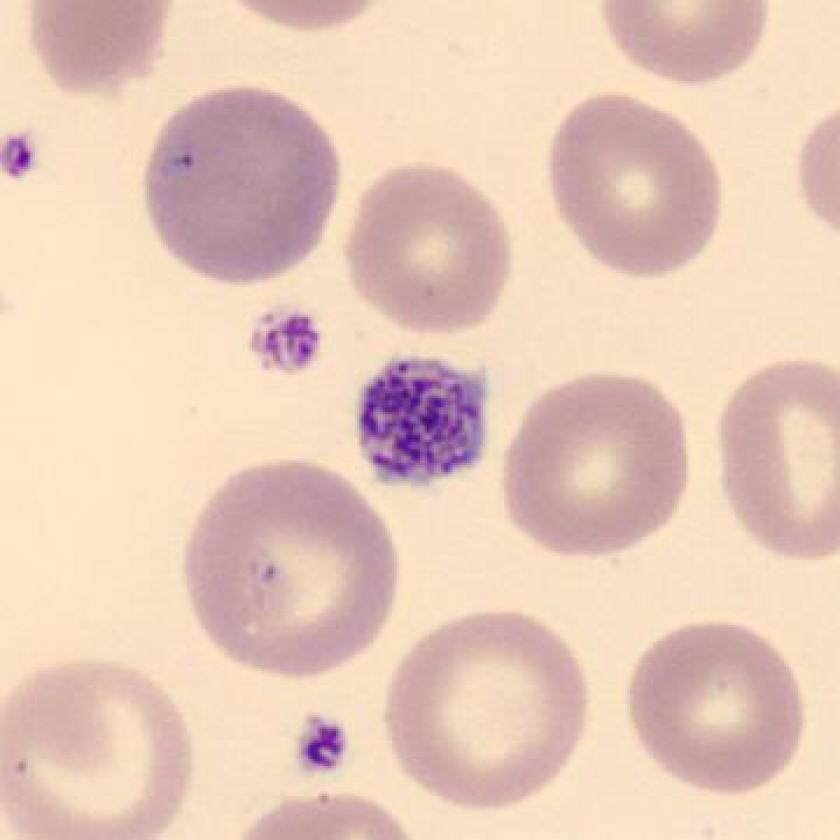platelets: (349, 343, 500, 501)
